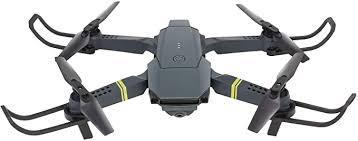drone: (0, 7, 358, 132)
